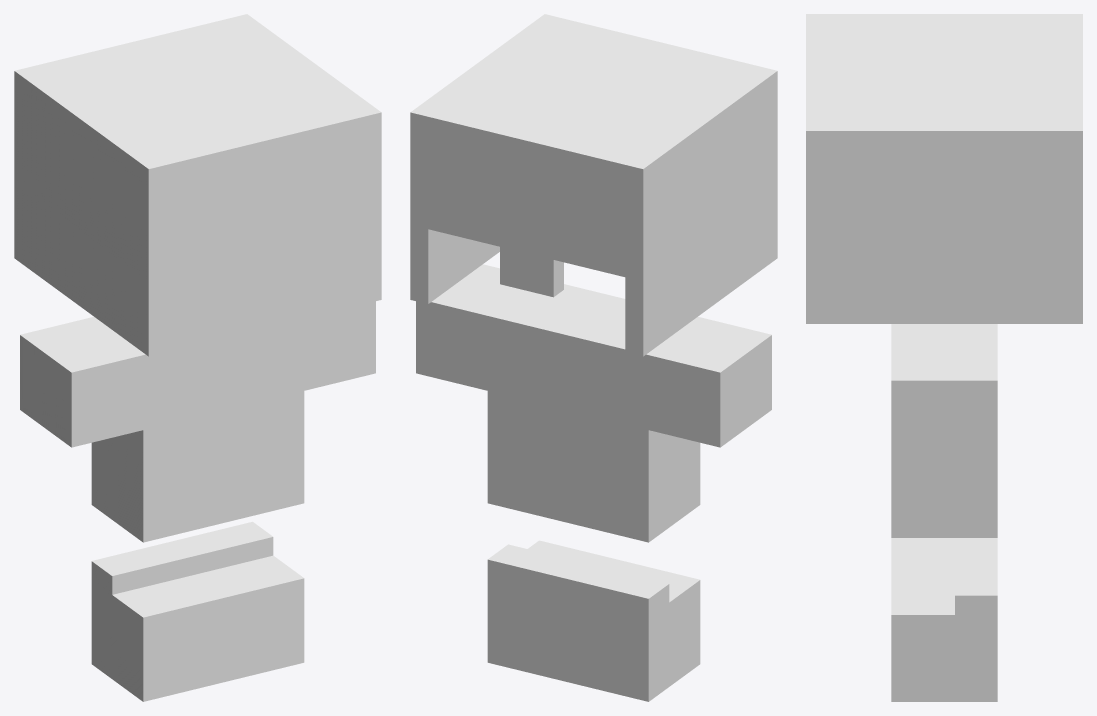
The model's file is armor.gltf.
The picture shows the model from 3 angles, left to right: view 1: azimuth 30°, elevation 25°; view 2: azimuth 150°, elevation 25°; view 3: azimuth 270°, elevation 25°; orthographic projection. The views are drawn at different scales.
Parts seen in each view (by area): view 1: Helmet (×5), Chestplate, LeftBoot (×2), LeftChestplateShoulder, RightBoot (×2), RightChestplateShoulder; view 2: Helmet (×6), Chestplate, LeftBoot (×2), LeftChestplateShoulder, RightBoot (×2), RightChestplateShoulder; view 3: Helmet (×4), RightBoot (×2), RightChestplateShoulder, Chestplate, LeftBoot (×2).
Boxes of the visible parts, <box> form: Helmet (×5): <box>14,14,381,356</box>; Chestplate: <box>91,317,304,542</box>; LeftBoot (×2): <box>91,543,232,701</box>; LeftChestplateShoulder: <box>20,317,143,447</box>; RightBoot (×2): <box>163,521,304,679</box>; RightChestplateShoulder: <box>304,301,375,390</box>; Helmet (×6): <box>410,14,777,356</box>; Chestplate: <box>487,284,700,542</box>; LeftBoot (×2): <box>559,562,700,701</box>; LeftChestplateShoulder: <box>648,317,771,447</box>; RightBoot (×2): <box>487,540,628,679</box>; RightChestplateShoulder: <box>416,264,522,390</box>; Helmet (×4): <box>806,14,1082,323</box>; RightBoot (×2): <box>891,559,997,701</box>; RightChestplateShoulder: <box>891,344,997,457</box>; Chestplate: <box>891,324,997,537</box>; LeftBoot (×2): <box>891,538,997,578</box>.
Size of the model in its own units: 0.5312 by 0.9531 by 0.4063.
Materials: 1 (1 with a texture image).
